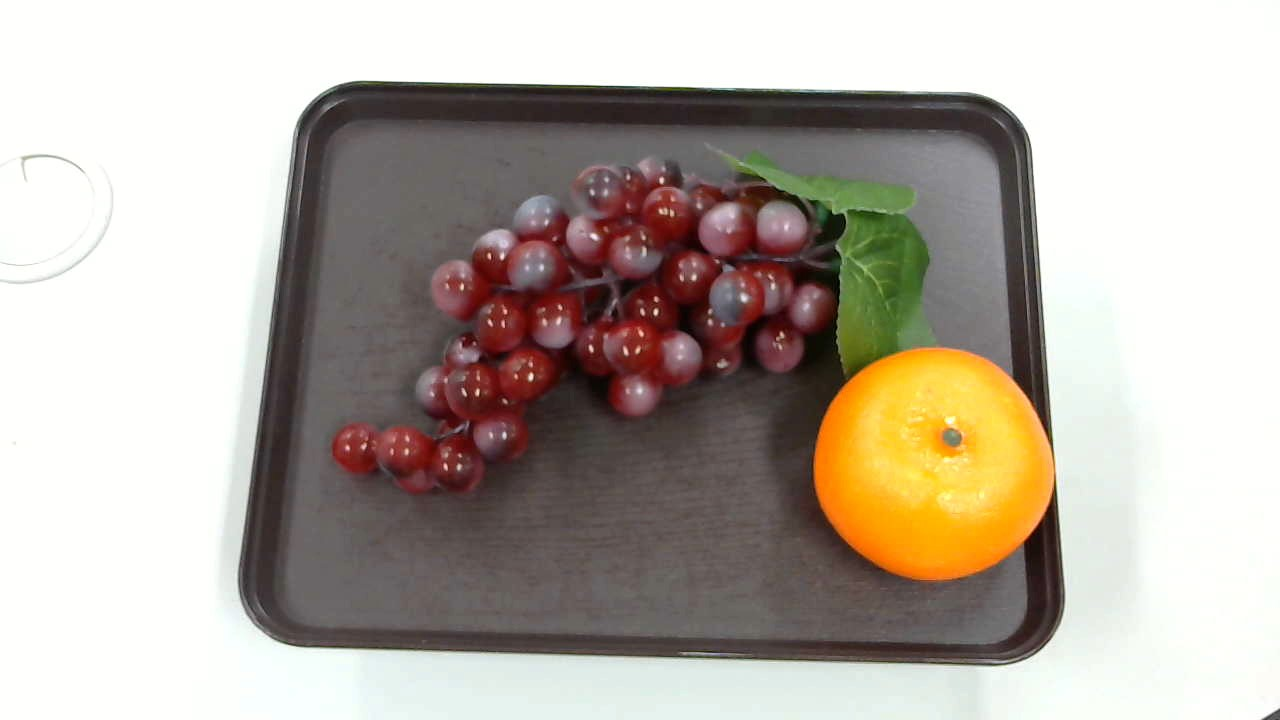grape: (329, 147, 940, 503)
orange: (808, 349, 1057, 580)
